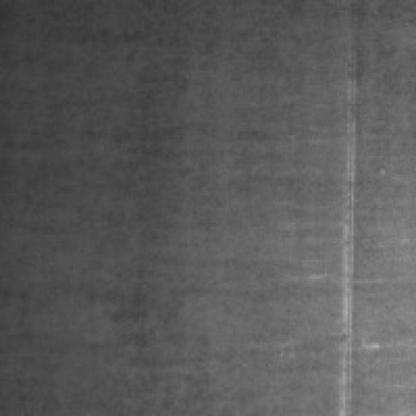scratches: (330, 68, 358, 412)
